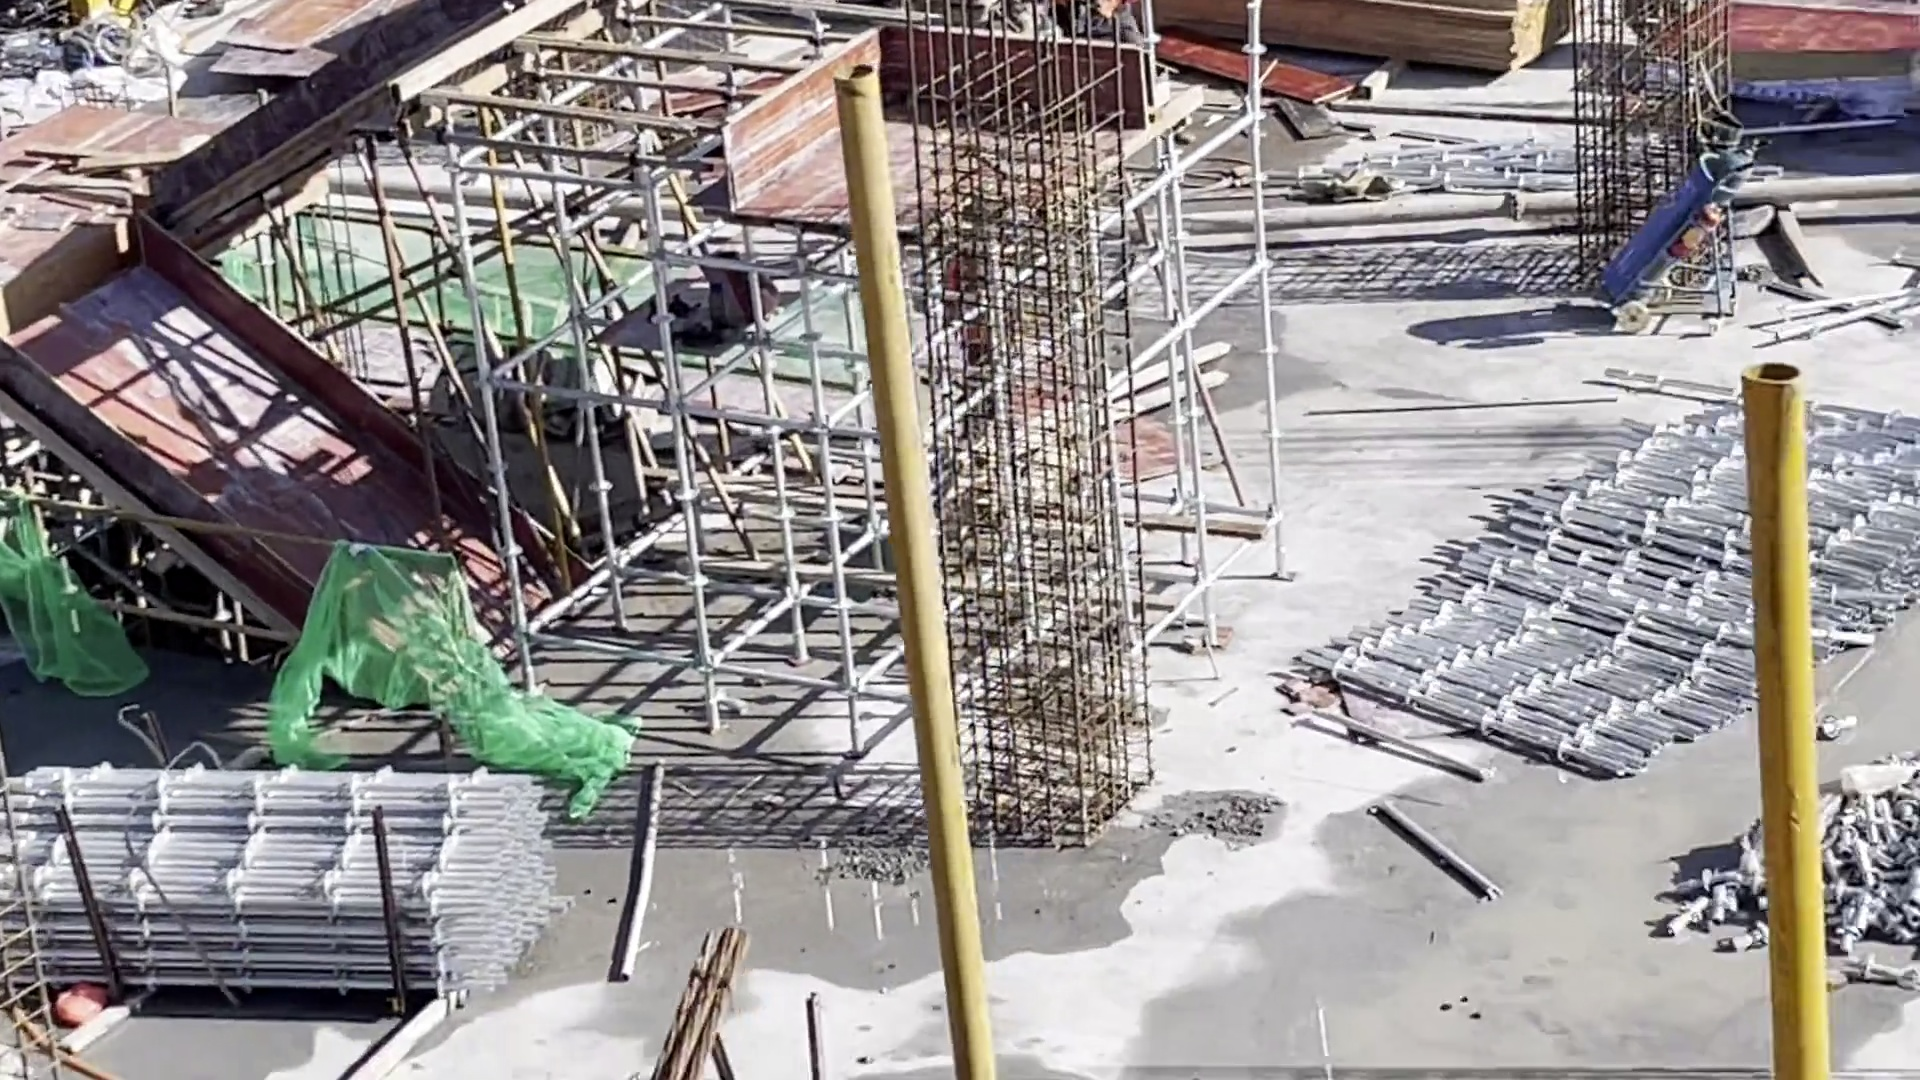scaffold: (1307, 386, 1917, 779), (3, 756, 574, 992)
